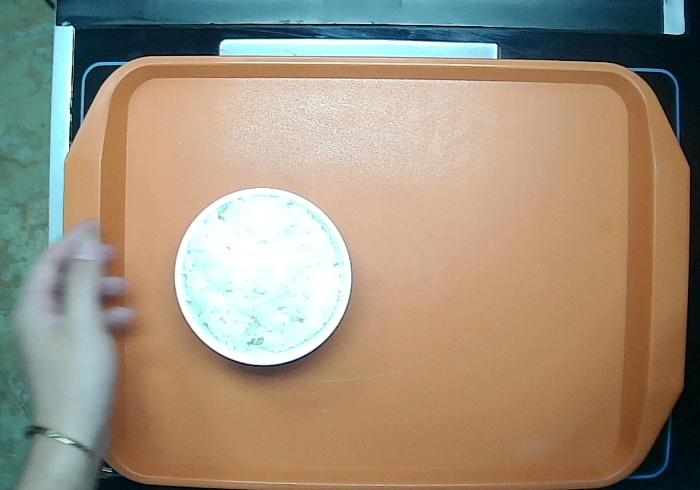HZYJPL-Fan_Wan: (173, 186, 355, 369)
